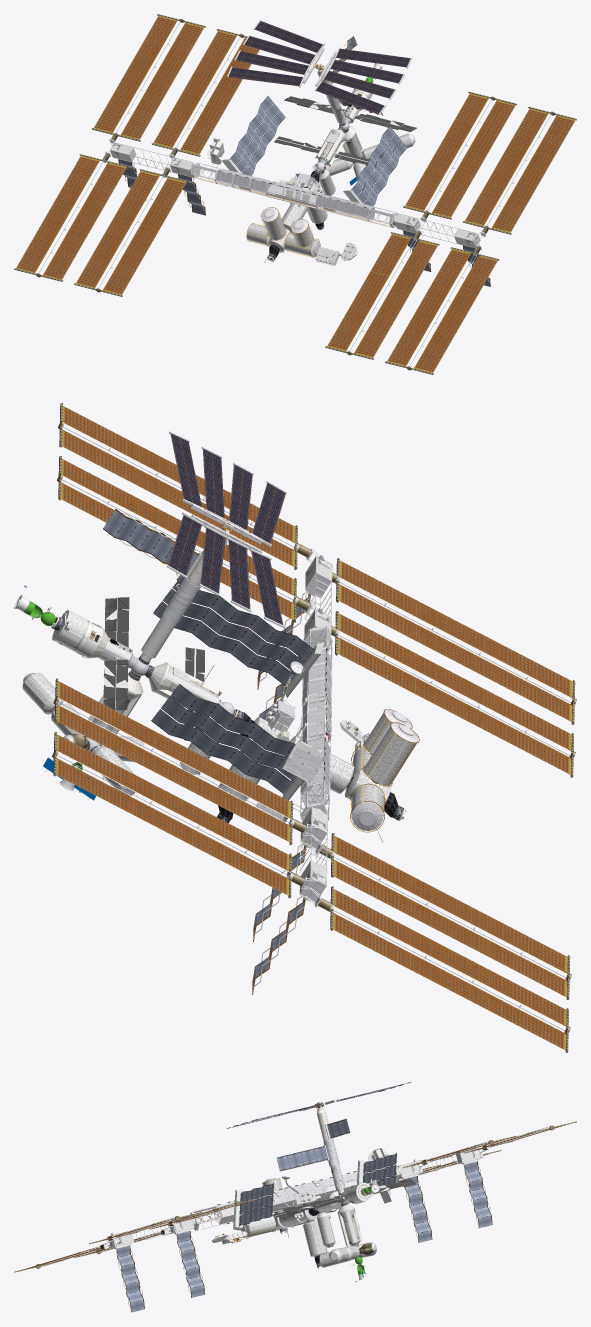
The model's file is iss.gltf.
3 views of the same model, one above another, from view 1: azimuth 30°, elevation 25°; view 2: azimuth 150°, elevation 25°; view 3: azimuth 270°, elevation 25° (orthographic). The views are drawn at different scales.
Visible parts, largest first — view 1: iss_issins, iss_iss_dc, primitive_0, primitive_1.001, primitive_10, iss_issins_split; view 2: iss_issins, iss_iss_dc, primitive_0, primitive_1.001, iss_issins_split, primitive_10; view 3: iss_issins, iss_iss_dc, primitive_0, primitive_1.001, primitive_10, iss_issins_split.
Part boxes in pixels (x1,y1,x2,y2): iss_issins: (14, 14, 576, 374); iss_iss_dc: (113, 63, 479, 265); primitive_0: (39, 21, 553, 367); primitive_1.001: (106, 20, 484, 263); primitive_10: (110, 105, 476, 248); iss_issins_split: (274, 96, 416, 167); iss_issins: (52, 403, 576, 1052); iss_iss_dc: (22, 522, 417, 901); primitive_0: (23, 423, 573, 1032); primitive_1.001: (63, 431, 383, 905); iss_issins_split: (103, 597, 204, 741); primitive_10: (141, 556, 331, 893); iss_issins: (14, 1082, 576, 1312); iss_iss_dc: (109, 1102, 475, 1267); primitive_0: (38, 1099, 549, 1307); primitive_1.001: (104, 1081, 486, 1249); primitive_10: (113, 1147, 481, 1246); iss_issins_split: (273, 1178, 416, 1217).
Bounding box in the file's own units: 2.04 × 0.9487 × 2.36.
Materials: 48 (39 with a texture image).
